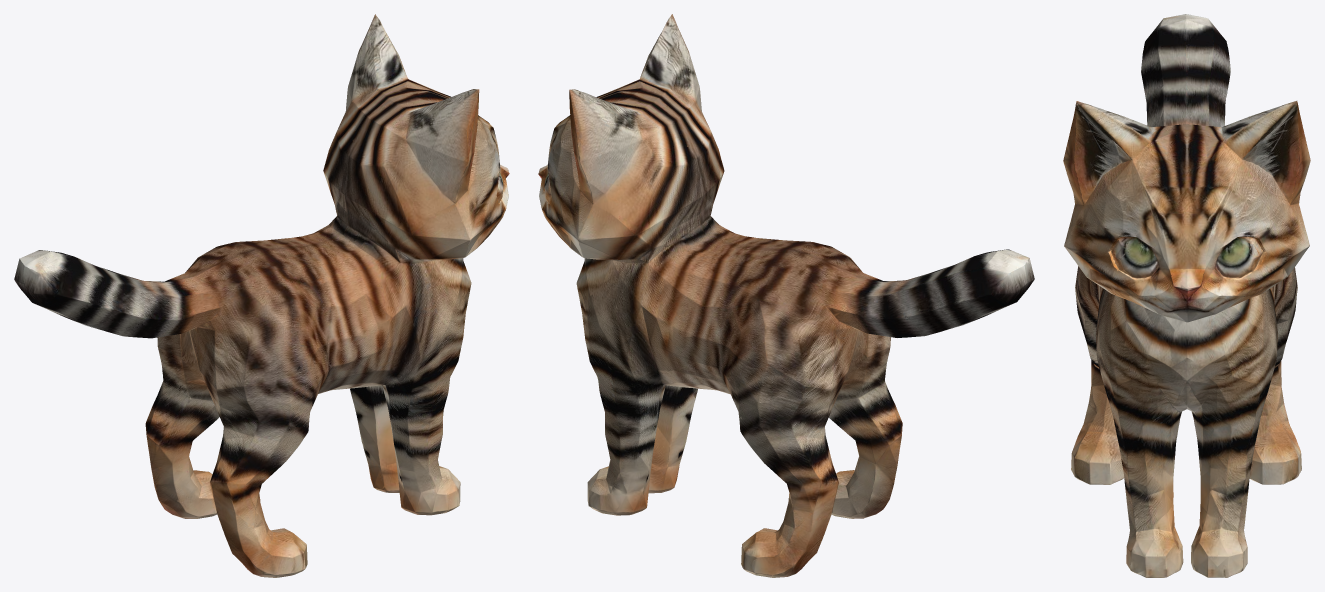
The model's file is CANDLEWICK.glb.
3 views of the same model, side by side, from view 1: azimuth 30°, elevation 25°; view 2: azimuth 150°, elevation 25°; view 3: azimuth 270°, elevation 25° (orthographic). The views are drawn at different scales.
Visible parts, largest first — view 1: fit; view 2: fit; view 3: fit.
Part boxes in pixels (bbox=[...]): fit: bbox=[14, 14, 509, 577]; fit: bbox=[538, 14, 1034, 577]; fit: bbox=[1063, 14, 1310, 577].
Bounding box in the file's own units: 1.16 × 0.9993 × 0.4758.
Materials: 1 (1 with a texture image).
